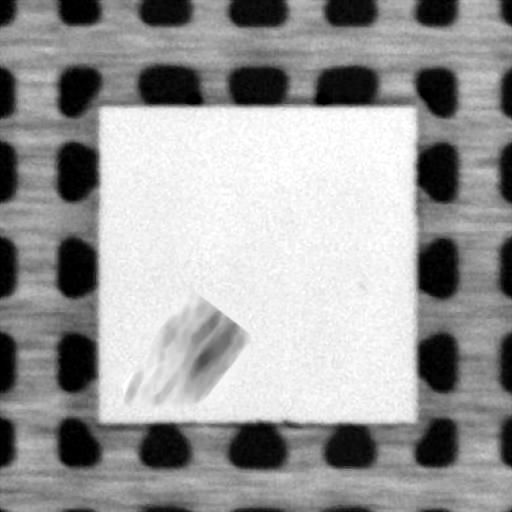DIE_INK: (113, 285, 254, 409)
